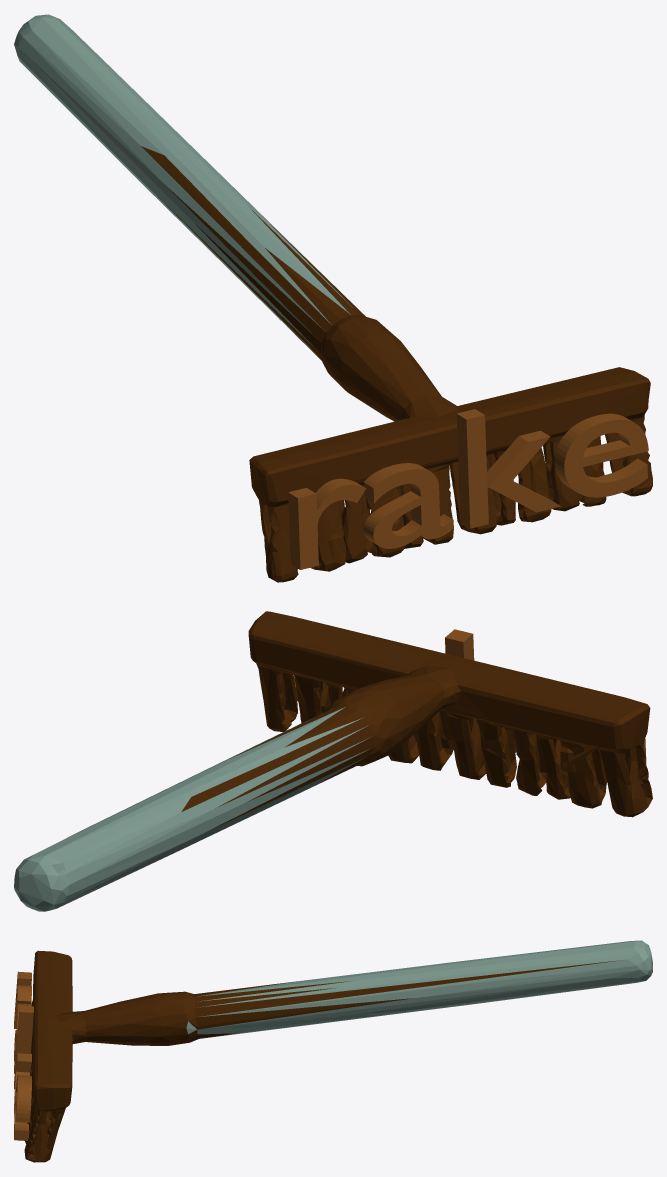
The model's file is rake.fbx.
The picture shows the model from 3 angles, top to bottom: view 1: azimuth 30°, elevation 25°; view 2: azimuth 150°, elevation 25°; view 3: azimuth 270°, elevation 25°; orthographic projection. The views are drawn at different scales.
Visible parts, largest first — view 1: imagetostl_mesh0, imagetostl_mesh0.001, Text; view 2: imagetostl_mesh0, imagetostl_mesh0.001, Text; view 3: imagetostl_mesh0, imagetostl_mesh0.001, Text.
Boxes of the visible parts, box(x1,y1,x2,y2) form: imagetostl_mesh0: box(141, 146, 652, 582); imagetostl_mesh0.001: box(14, 14, 363, 355); Text: box(288, 409, 648, 569); imagetostl_mesh0: box(181, 611, 652, 830); imagetostl_mesh0.001: box(14, 707, 372, 911); Text: box(294, 629, 646, 764); imagetostl_mesh0: box(24, 950, 620, 1162); imagetostl_mesh0.001: box(186, 940, 652, 1037); Text: box(14, 971, 33, 1140).
Size of the model in its own units: 98.02 by 52.94 by 195.
